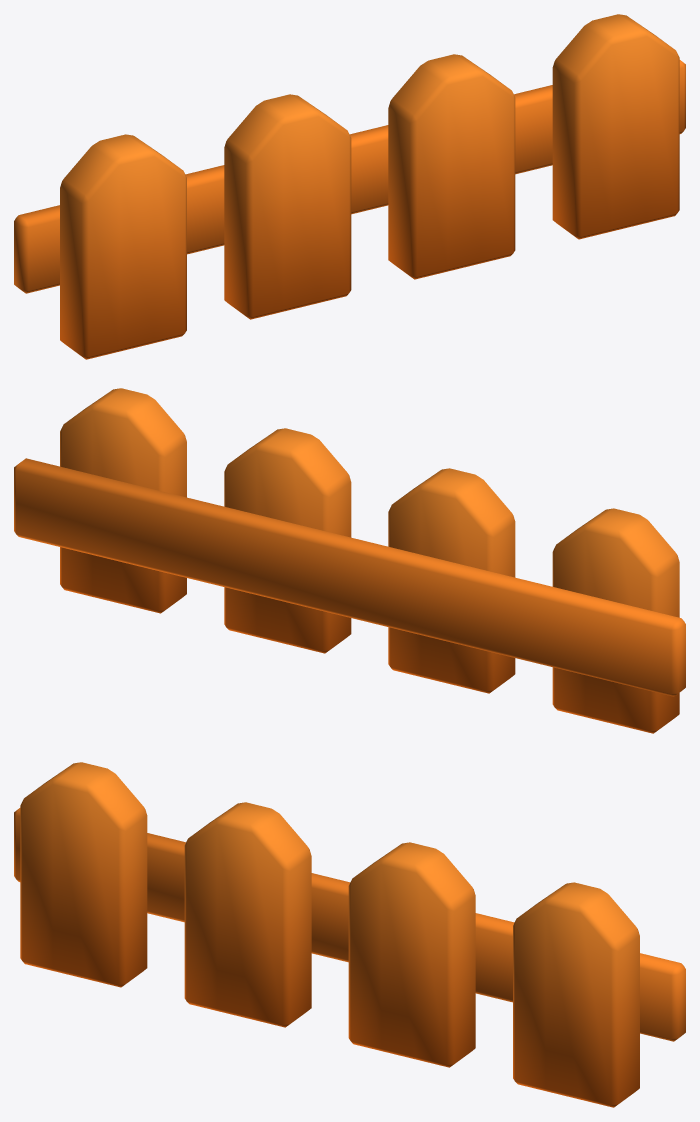
File: Farm_Fence_A_01.fbx
The picture shows the model from 3 angles, top to bottom: view 1: azimuth 30°, elevation 25°; view 2: azimuth 150°, elevation 25°; view 3: azimuth 330°, elevation 25°; orthographic projection.
Visible parts, largest first — view 1: Farm_Fence_A_01; view 2: Farm_Fence_A_01; view 3: Farm_Fence_A_01.
Boxes of the visible parts, x1,y1,x2,y2 form: Farm_Fence_A_01: (14,14,685,359); Farm_Fence_A_01: (14,388,685,733); Farm_Fence_A_01: (14,762,685,1107).
Size of the model in its own units: 200 by 56.02 by 20.67.
